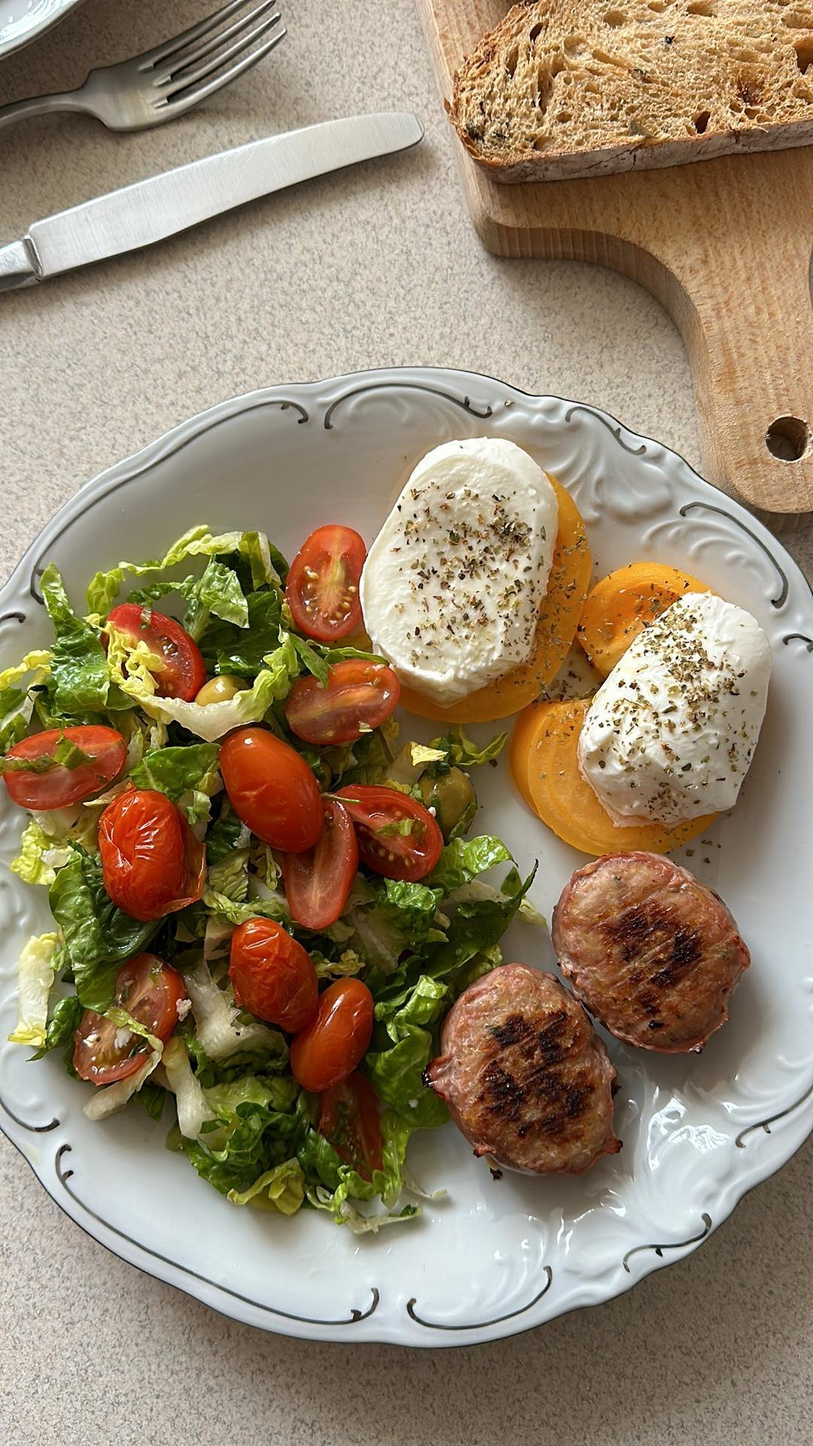lettuce: (145, 1052, 302, 1208), (97, 523, 279, 643), (168, 626, 331, 734), (0, 587, 108, 746), (353, 886, 527, 984), (364, 982, 446, 1179), (19, 813, 88, 1041), (352, 842, 497, 921), (195, 823, 293, 913), (186, 966, 275, 1064), (123, 727, 225, 797), (136, 733, 224, 794)
tomato: (71, 944, 172, 1086), (216, 727, 321, 854), (1, 722, 125, 811), (586, 560, 685, 666), (279, 806, 360, 932), (291, 971, 378, 1087), (97, 796, 183, 912), (279, 661, 398, 744), (231, 920, 315, 1036), (548, 477, 594, 678), (521, 706, 583, 851), (288, 522, 365, 636), (107, 604, 201, 696), (355, 778, 435, 871)
